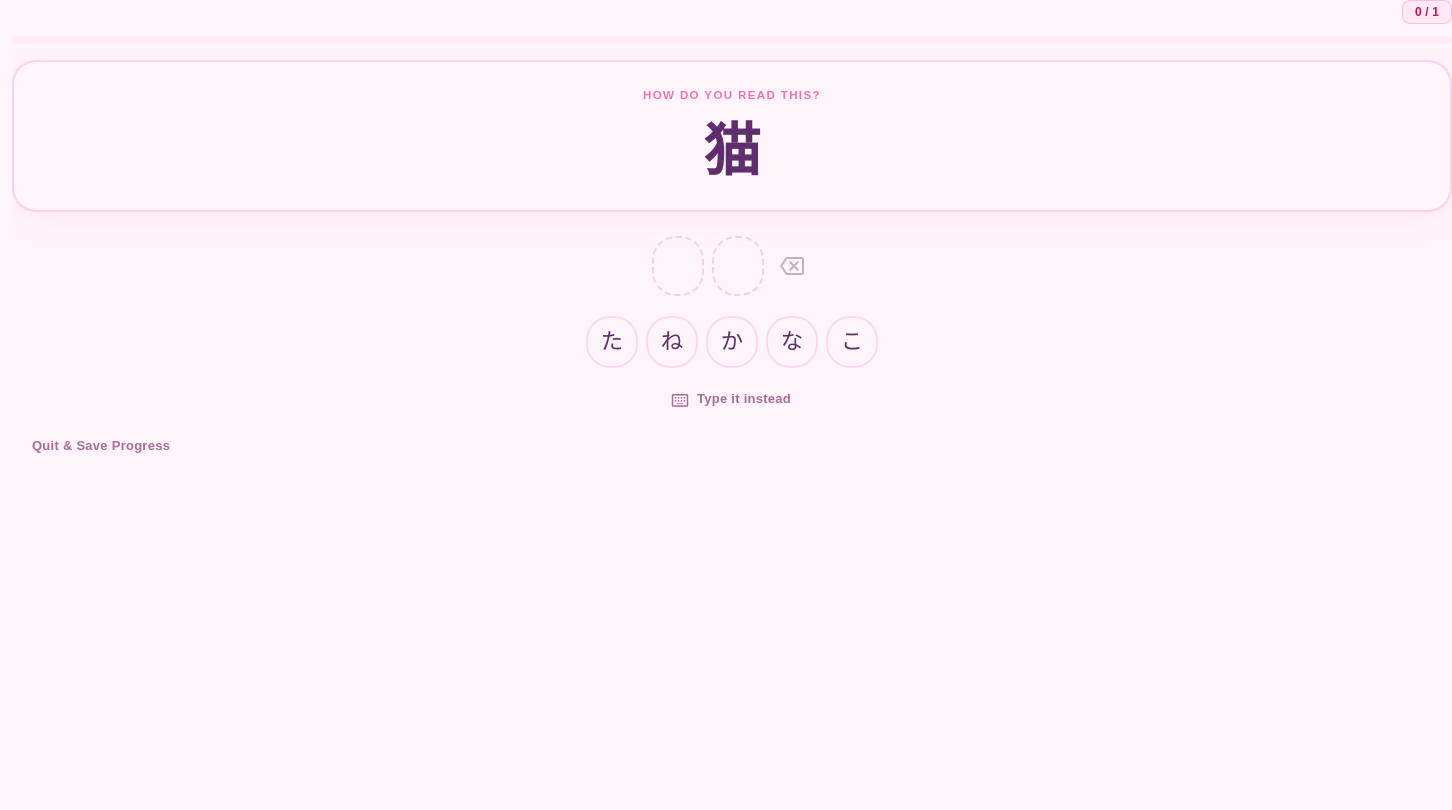
ReadingMode › reveals the reading and the meaning after a wrong tile answer
Expected: the text "猫" is shown, [703,120,761,183]
// Backwards: the right characters in the wrong order.
Click the button named "Add こ" at (852, 342), box [826,316,878,368]
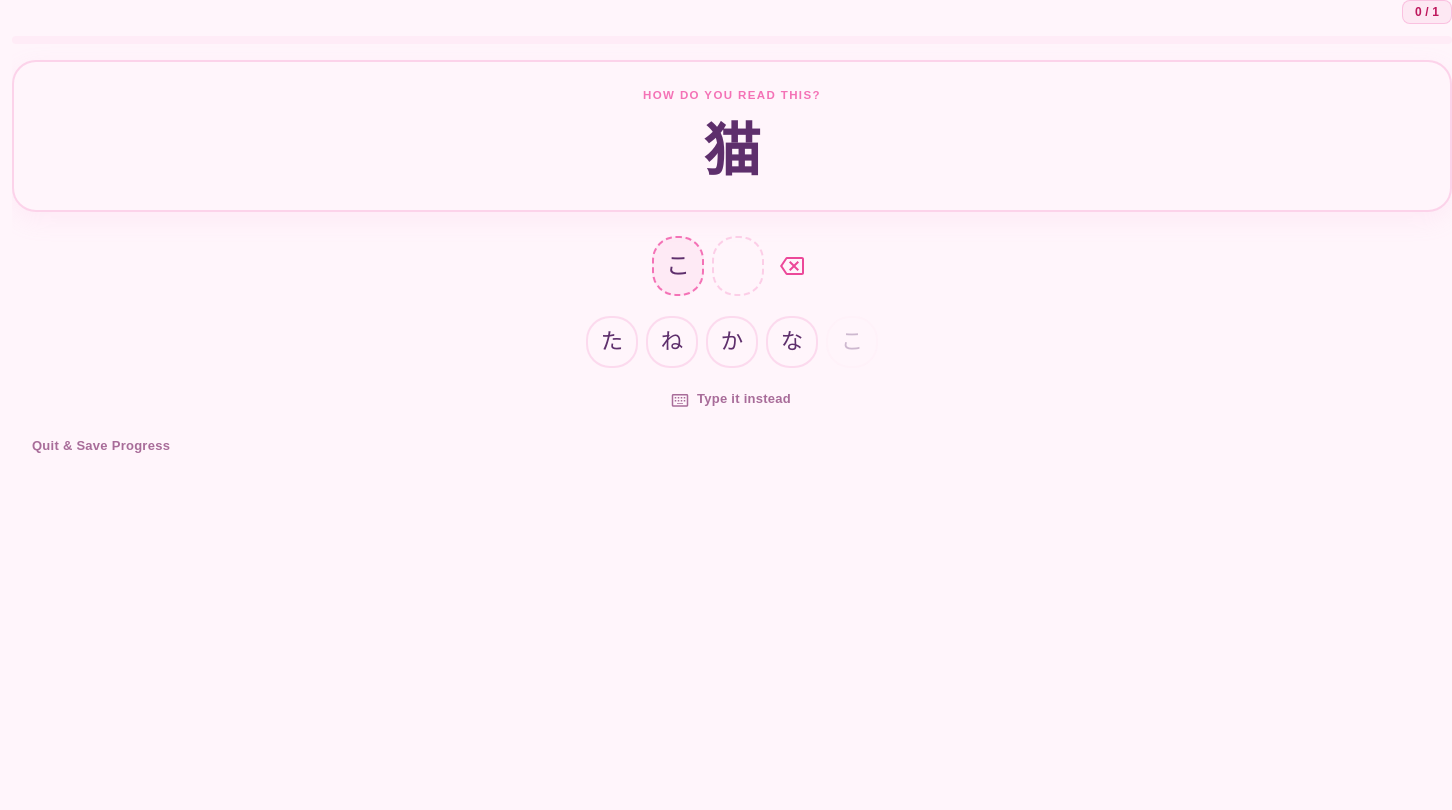
Click the button named "Add ね" at (672, 342), box [646,316,698,368]
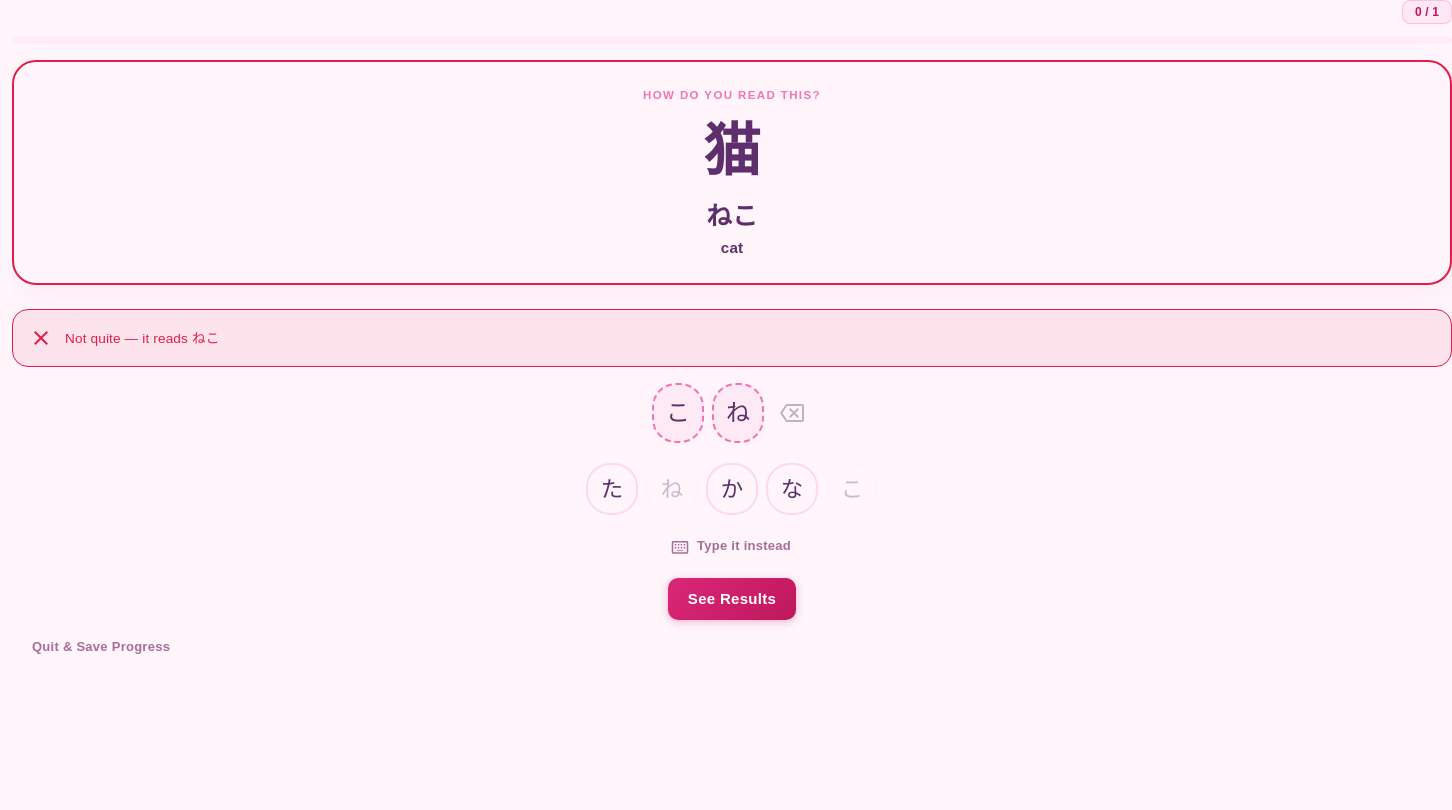
Result: the text "Not quite — it reads ねこ" is shown at [65,331,219,346]
Result: the text "cat" is shown at [721,239,743,256]
